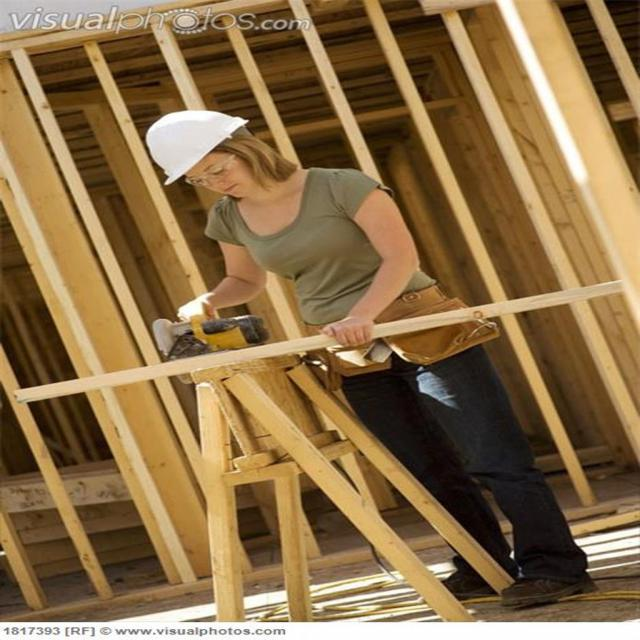nomask: (176, 140, 248, 198)
